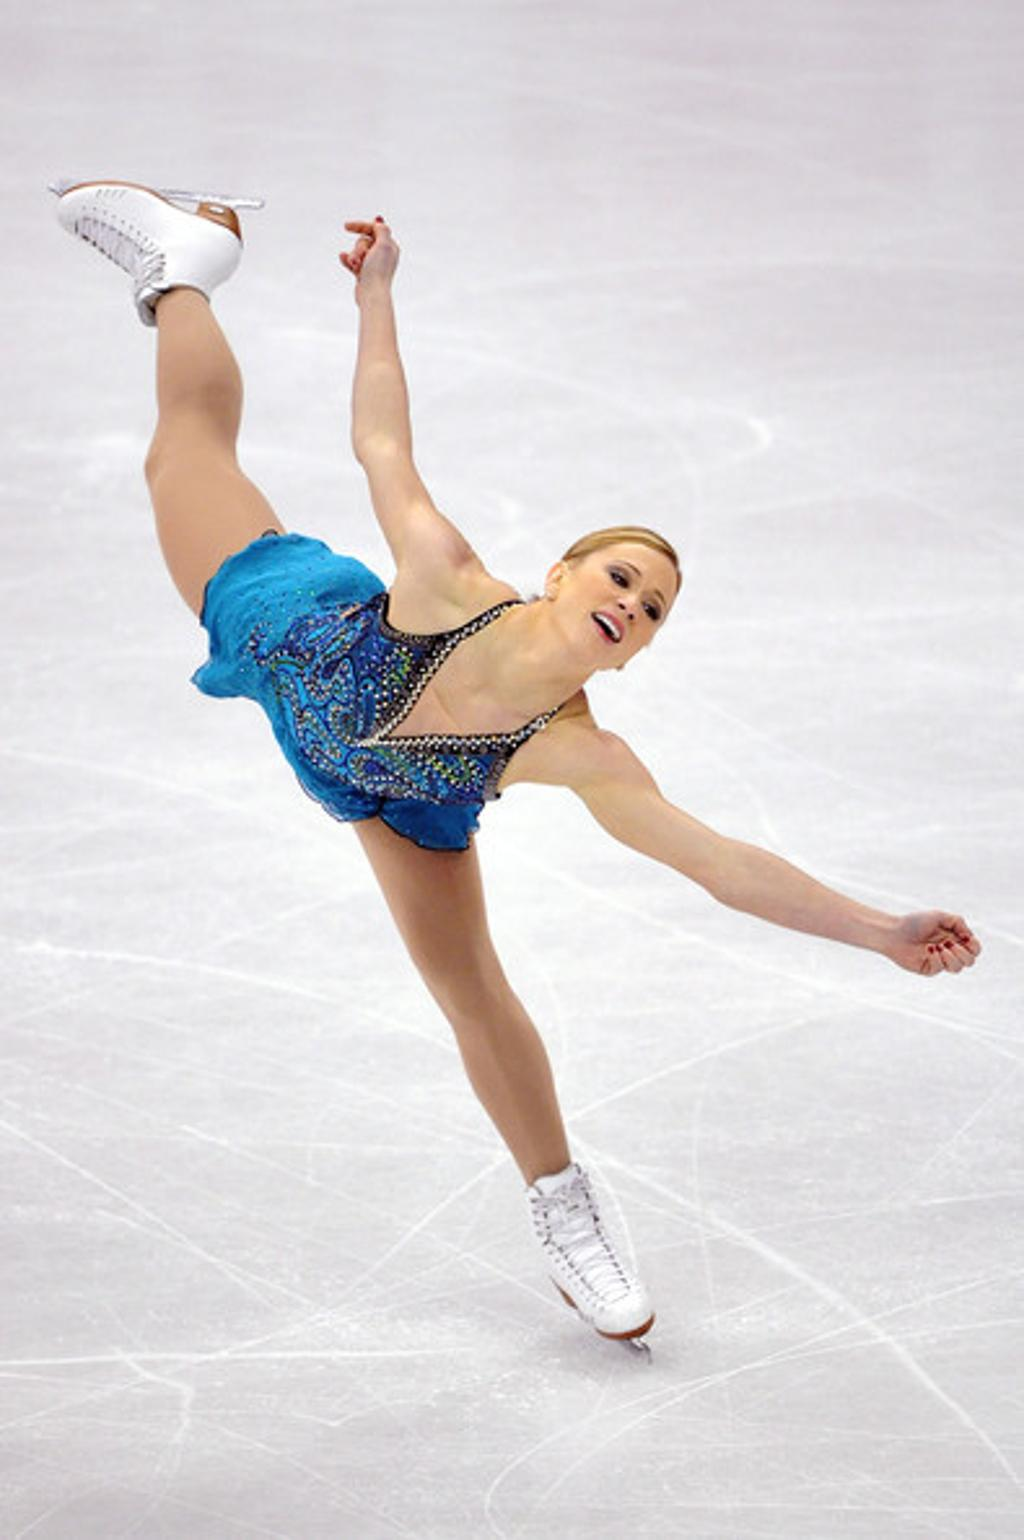face: (560, 539, 674, 656)
